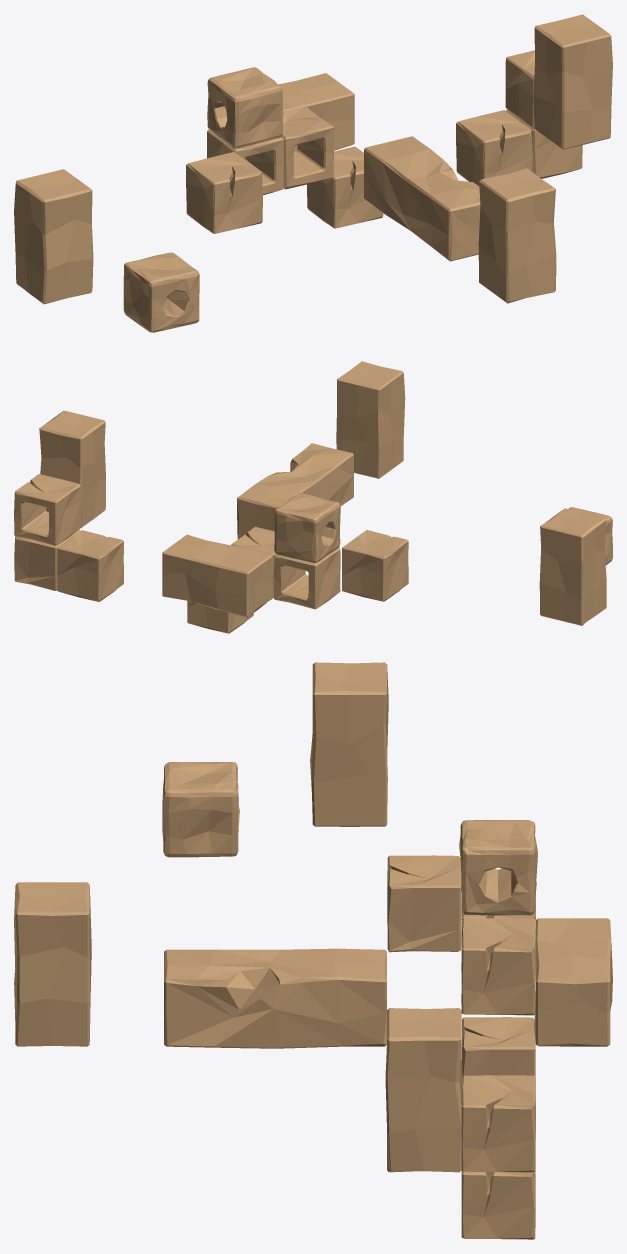
The model's file is The_sea_env.fbx.
3 renders of one model, top to bottom at view 1: azimuth 30°, elevation 25°; view 2: azimuth 150°, elevation 25°; view 3: azimuth 270°, elevation 25°, orthographic. The views are drawn at different scales.
Visible parts, largest first — view 1: deco; view 2: deco; view 3: deco.
Boxes of the visible parts, left/top/right/bottom form: deco: left=14, top=14, right=612, bottom=332; deco: left=14, top=361, right=612, bottom=633; deco: left=14, top=662, right=612, bottom=1239.
Size of what is drawn, in the model's own units: 120 by 30.18 by 80.57.
1 material, 1 textured.
